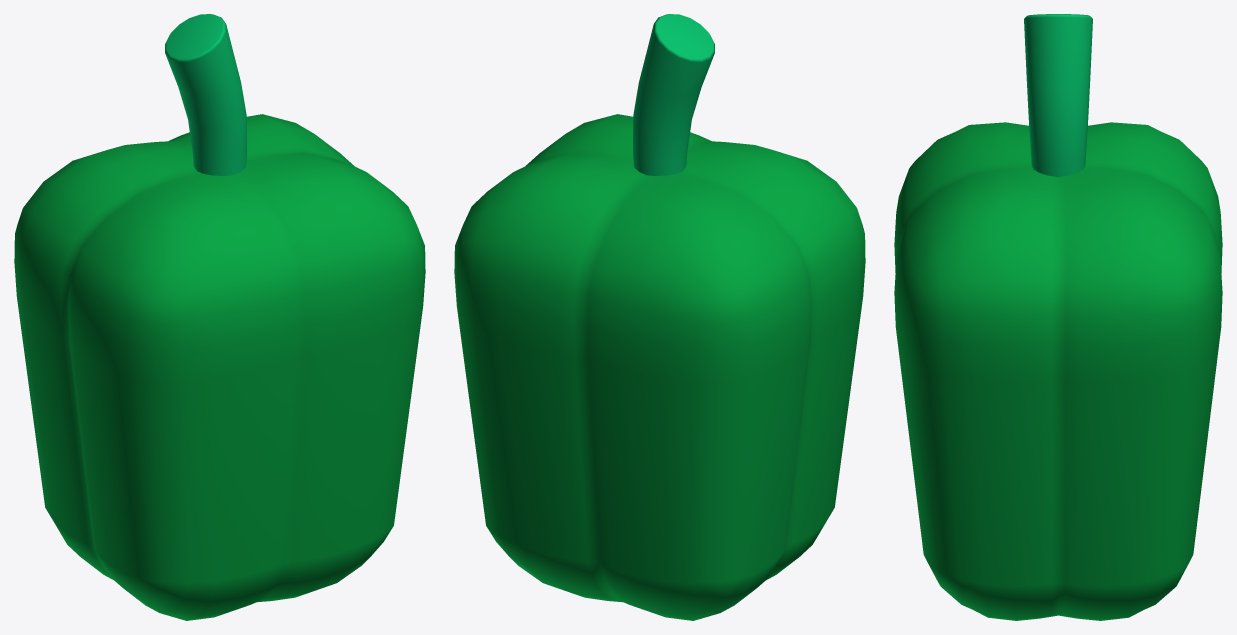
Rendered from Store_19_Pepper_3.glb.
3 renders of one model, left to right at view 1: azimuth 30°, elevation 25°; view 2: azimuth 150°, elevation 25°; view 3: azimuth 270°, elevation 25°, orthographic.
Visible parts, largest first — view 1: Store_19_Pepper_3; view 2: Store_19_Pepper_3; view 3: Store_19_Pepper_3.
Part boxes in pixels (box(x1,y1,x2,y2)): Store_19_Pepper_3: box(14, 14, 425, 620); Store_19_Pepper_3: box(454, 14, 865, 620); Store_19_Pepper_3: box(894, 14, 1222, 620).
Size of the model in its own units: 0.3124 by 0.5346 by 0.2757.
1 material, 1 textured.
